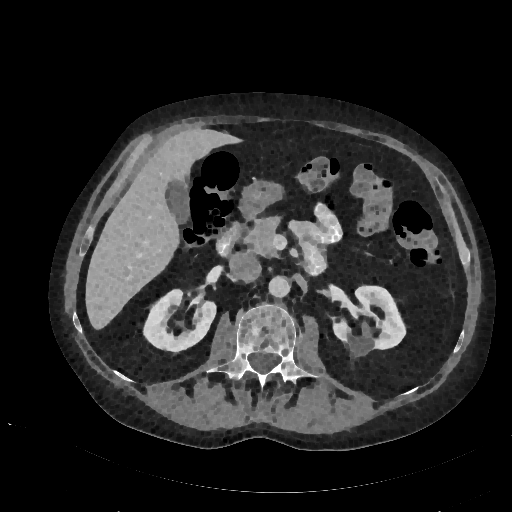Lesion: (343, 325, 377, 367)
